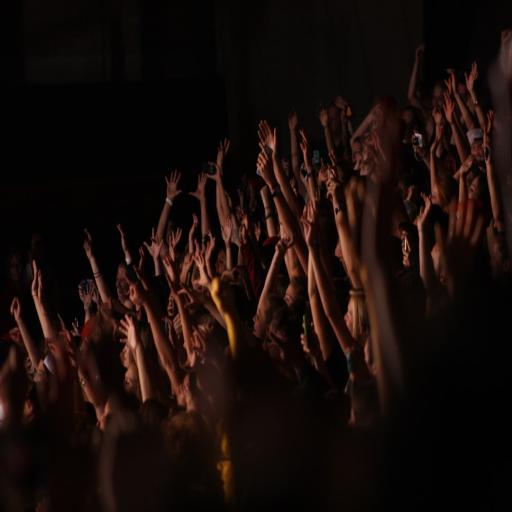face: (124, 362, 140, 396), (490, 242, 504, 280), (116, 266, 129, 302), (344, 298, 355, 337), (9, 254, 23, 282), (254, 308, 266, 339), (328, 106, 341, 133), (468, 176, 481, 200), (214, 250, 226, 275), (352, 141, 362, 169), (284, 284, 296, 306), (433, 84, 444, 108)
